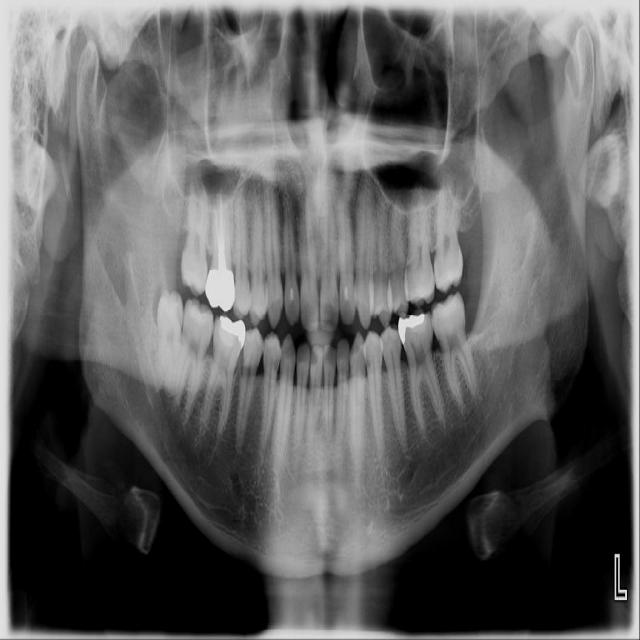Crown: (205, 268, 235, 313)
Filling: (396, 310, 428, 345), (215, 313, 245, 346), (339, 275, 356, 326), (284, 281, 299, 326)
Root Canal Treatment: (215, 191, 223, 244), (223, 207, 231, 255), (211, 209, 218, 246)
impacted tooth: (156, 289, 182, 397)
